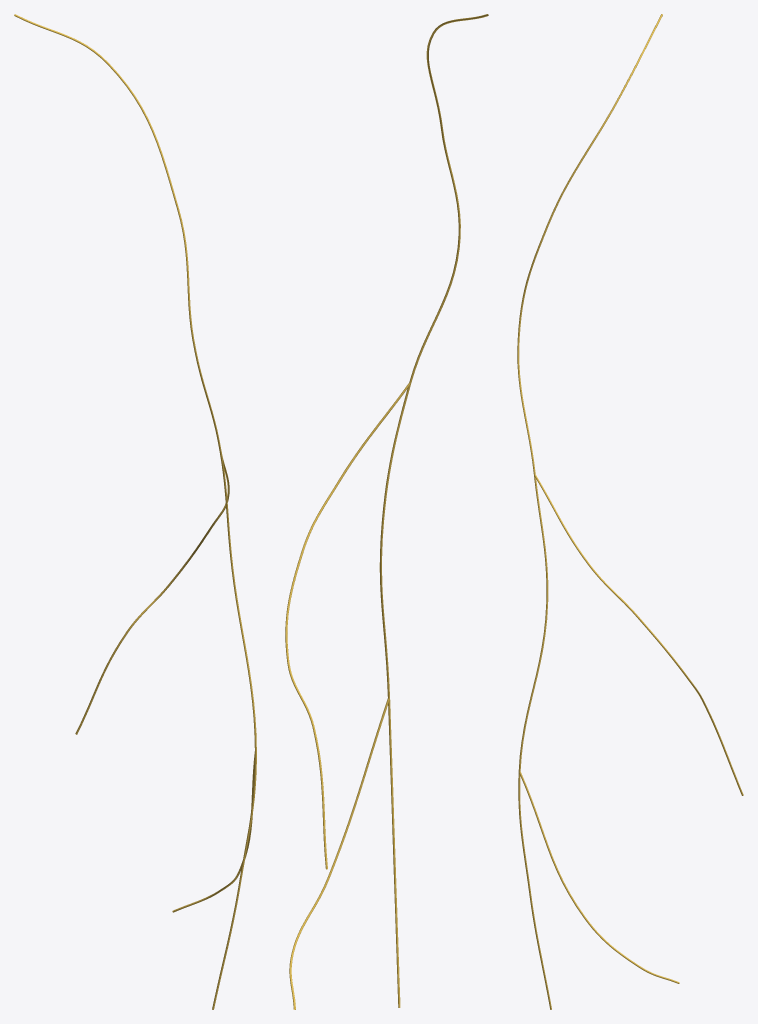
Rendered from Lateral_femoral_cutaneous_nerve_left.glb.
3 views of the same model, side by side, from view 1: azimuth 30°, elevation 25°; view 2: azimuth 150°, elevation 25°; view 3: azimuth 270°, elevation 25° (orthographic). The views are drawn at different scales.
Visible parts, largest first — view 1: Lateral_femoral_cutaneous_nerve.l_BezierCurve.517; view 2: Lateral_femoral_cutaneous_nerve.l_BezierCurve.517; view 3: Lateral_femoral_cutaneous_nerve.l_BezierCurve.517.
Boxes of the visible parts, <box> form: Lateral_femoral_cutaneous_nerve.l_BezierCurve.517: <box>14,14,256,1009</box>; Lateral_femoral_cutaneous_nerve.l_BezierCurve.517: <box>285,14,488,1009</box>; Lateral_femoral_cutaneous_nerve.l_BezierCurve.517: <box>517,14,743,1009</box>.
Bounding box in the file's own units: 0.1083 × 0.5251 × 0.1157.
